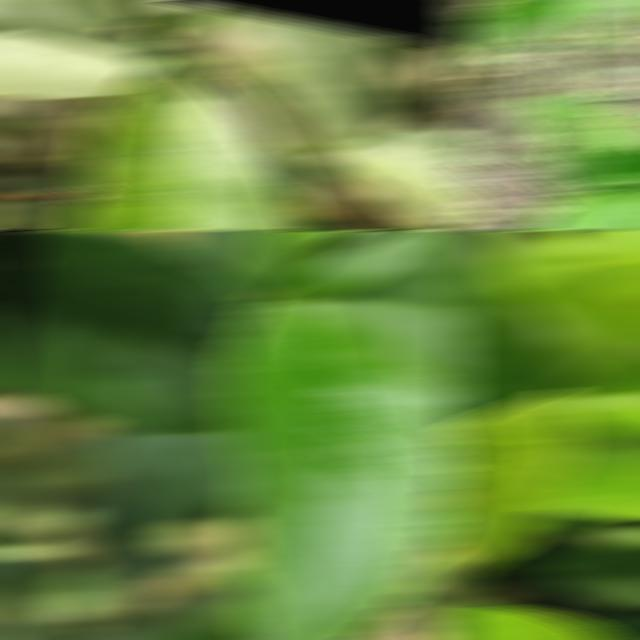Leaf: (219, 298, 461, 640), (0, 231, 263, 432), (65, 57, 316, 230), (213, 8, 401, 147), (450, 388, 579, 574), (450, 230, 568, 423), (304, 300, 470, 408), (511, 261, 640, 393), (98, 429, 255, 536), (0, 0, 170, 98), (315, 129, 470, 230), (329, 232, 470, 306), (71, 501, 163, 603), (532, 445, 640, 521), (455, 0, 580, 62), (490, 230, 601, 295), (530, 190, 639, 230), (557, 145, 640, 194), (535, 101, 600, 159), (562, 0, 639, 46), (567, 117, 619, 176), (506, 89, 564, 141), (557, 230, 640, 258), (542, 146, 591, 192), (450, 123, 501, 167), (602, 106, 640, 151), (564, 89, 622, 118), (593, 182, 640, 200), (582, 252, 632, 262), (548, 95, 580, 102)
